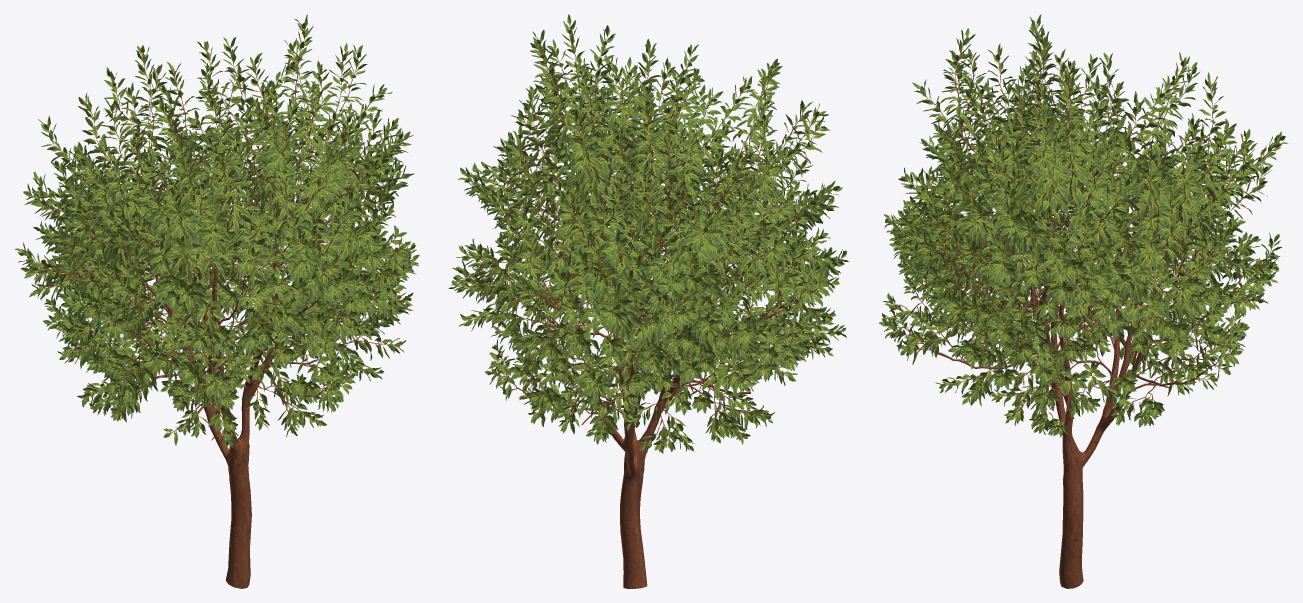
Rendered from Arbutus Unedo Cmps 3.glb.
The picture shows the model from 3 angles, left to right: view 1: azimuth 30°, elevation 25°; view 2: azimuth 150°, elevation 25°; view 3: azimuth 270°, elevation 25°; orthographic projection.
Visible parts, largest first — view 1: AM210_040; view 2: AM210_040; view 3: AM210_040.
Boxes of the visible parts, <box> form: AM210_040: <box>14,14,419,588</box>; AM210_040: <box>448,14,849,588</box>; AM210_040: <box>878,14,1288,588</box>.
Size of the model in its own units: 4 by 6 by 4.
2 materials, 2 textured.
